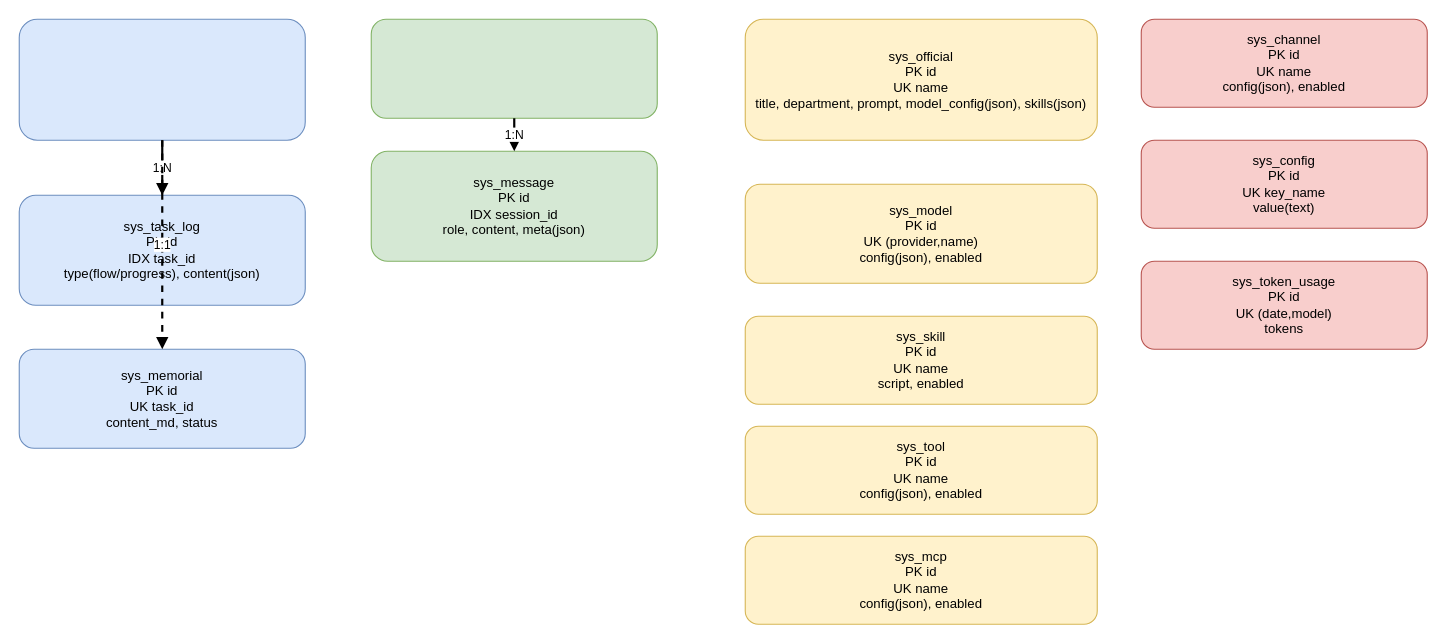
This 1447x644 diagram has some shape labels left out. Here are the shapes that lost their labels. From the top down, the box of each, then its label:
(18, 18, 305, 140): sys_task PK id (bigint) UK task_id status, priority, payload, result
(370, 18, 657, 118): sys_conversation PK id UK session_id title, type
